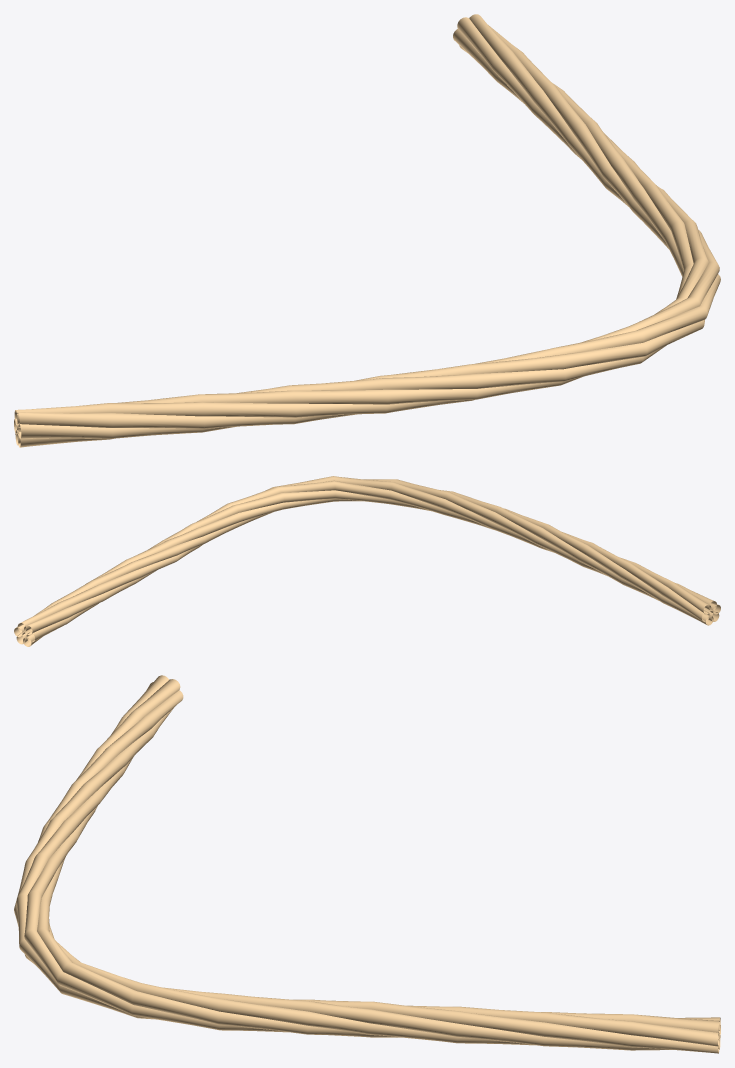
The model's file is RopeCurveShort.fbx.
3 views of the same model, one above another, from view 1: azimuth 30°, elevation 25°; view 2: azimuth 150°, elevation 25°; view 3: azimuth 270°, elevation 25° (orthographic). The views are drawn at different scales.
Visible parts, largest first — view 1: sweep3; view 2: sweep3; view 3: sweep3.
Boxes of the visible parts, box(x1,y1,x2,y2) form: sweep3: box(14, 14, 720, 447); sweep3: box(14, 476, 720, 646); sweep3: box(14, 675, 720, 1053).
Size of the model in its own units: 1.52 by 0.0672 by 1.29.
